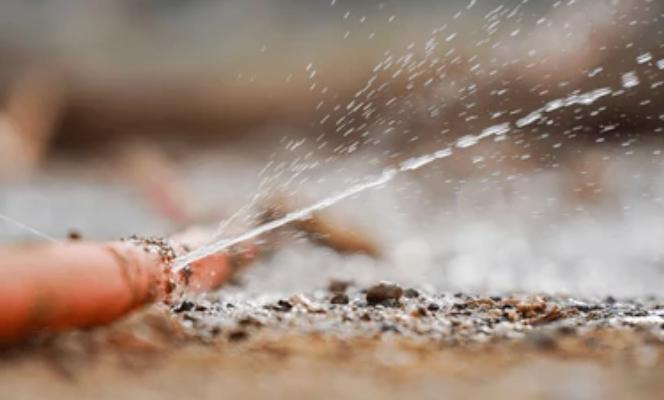pipe burst: (165, 66, 656, 276)
